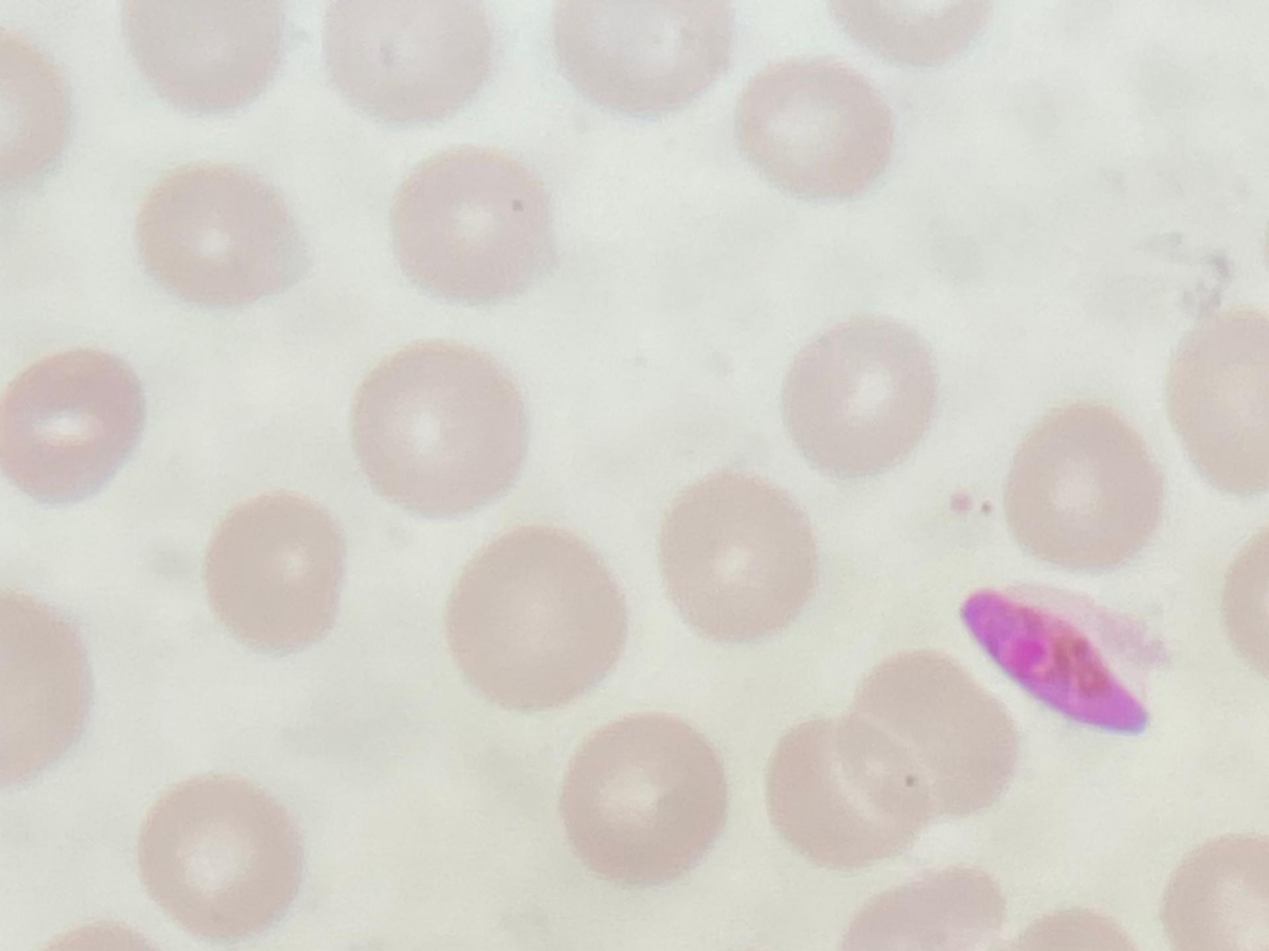Infected: (962, 582, 1163, 733)
Uninfected: (442, 526, 628, 708), (350, 342, 530, 514), (850, 650, 1020, 820), (557, 712, 726, 882), (657, 473, 821, 642), (136, 777, 302, 938), (1002, 406, 1163, 569), (388, 146, 557, 301), (781, 316, 940, 476), (134, 161, 305, 309), (767, 718, 925, 868), (201, 492, 347, 652), (732, 58, 894, 198), (0, 347, 143, 502), (327, 1, 498, 123), (556, 0, 731, 114), (1163, 310, 1269, 490), (126, 1, 288, 114)
